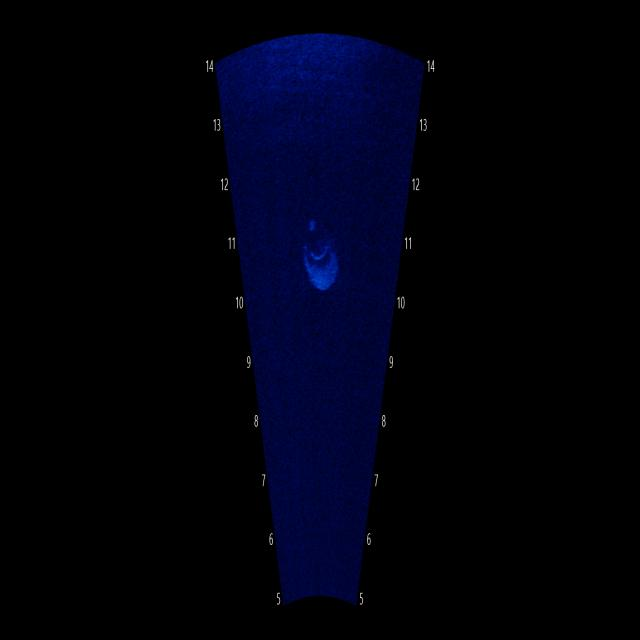circle: (288, 180, 358, 315)
